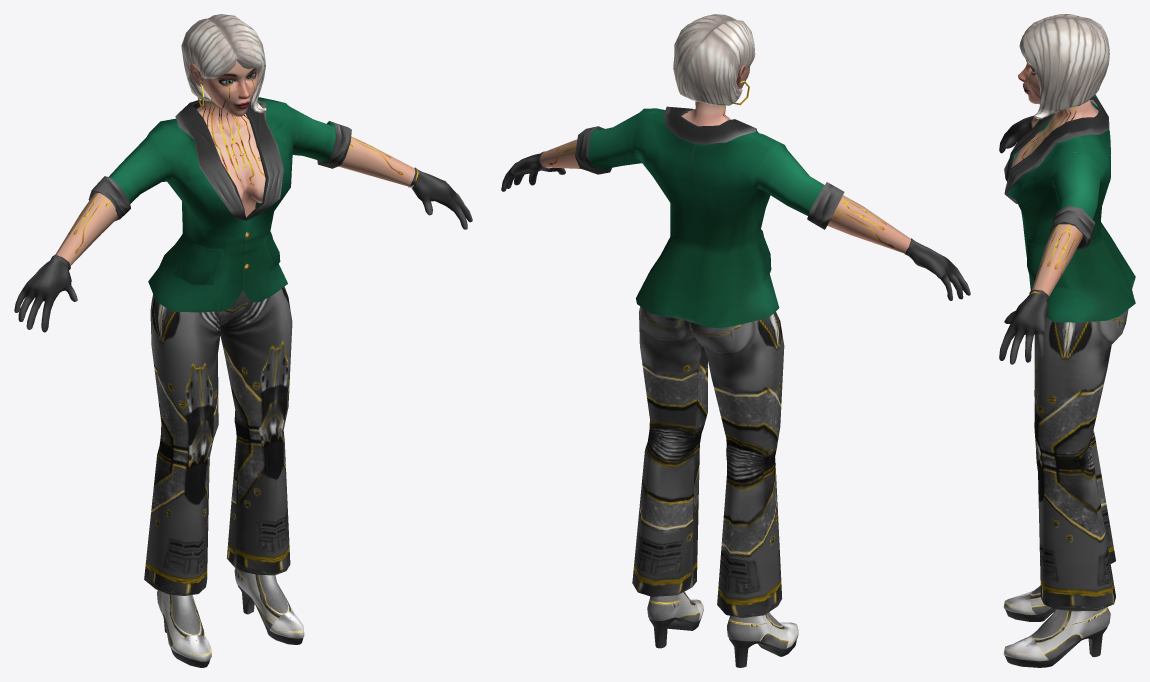
Rendered from MEUF_FINAL2.fbx.
3 renders of one model, left to right at view 1: azimuth 30°, elevation 25°; view 2: azimuth 150°, elevation 25°; view 3: azimuth 270°, elevation 25°, orthographic. The views are drawn at different scales.
Visible parts, largest first — view 1: meuf1; view 2: meuf1; view 3: meuf1.
Part boxes in pixels (left/top/right/bottom): meuf1: left=14, top=14, right=472, bottom=667; meuf1: left=501, top=14, right=970, bottom=667; meuf1: left=999, top=14, right=1135, bottom=667.
Size of the model in its own units: 146 by 192 by 38.37.
